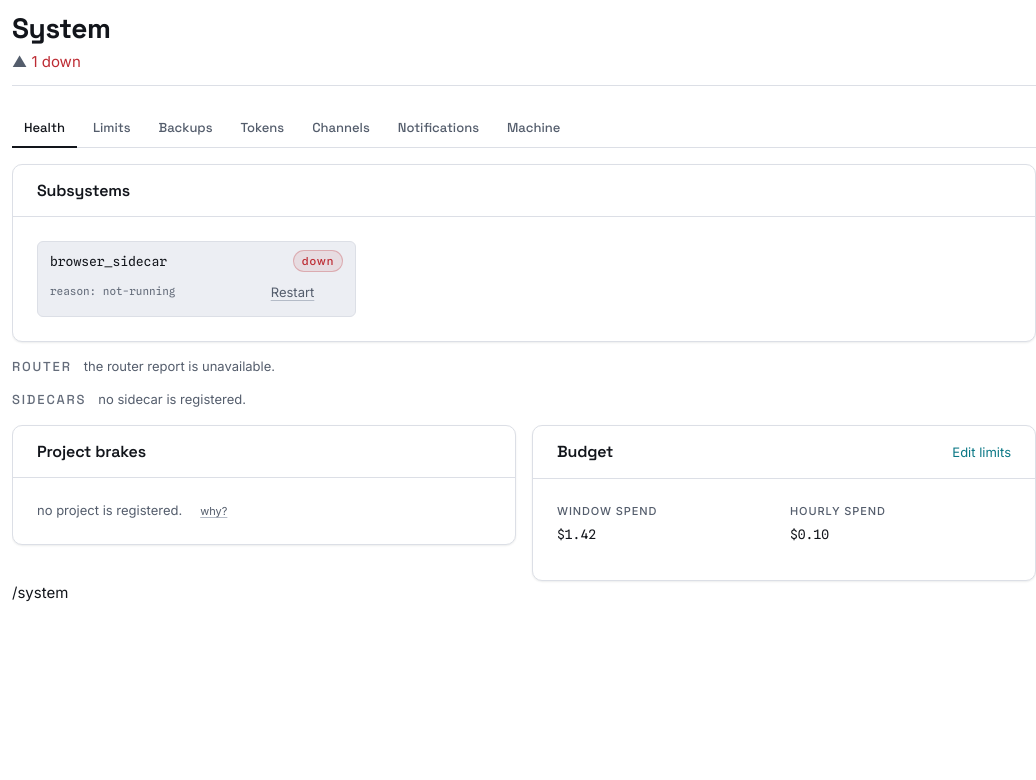
it: System - health readout › says why the núcleo refused a restart, in the row
Click the button "Restart" at [292, 292], box left=242, top=278, right=343, bottom=306
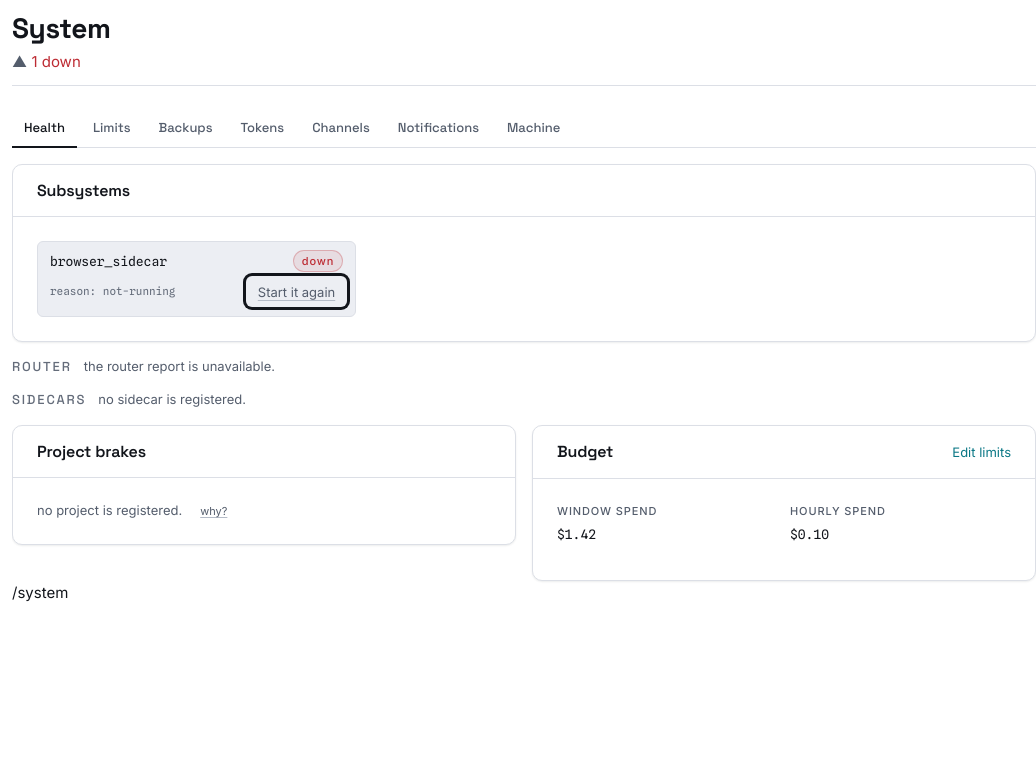
Click the button "Start it again" at [296, 292], box left=246, top=276, right=347, bottom=307
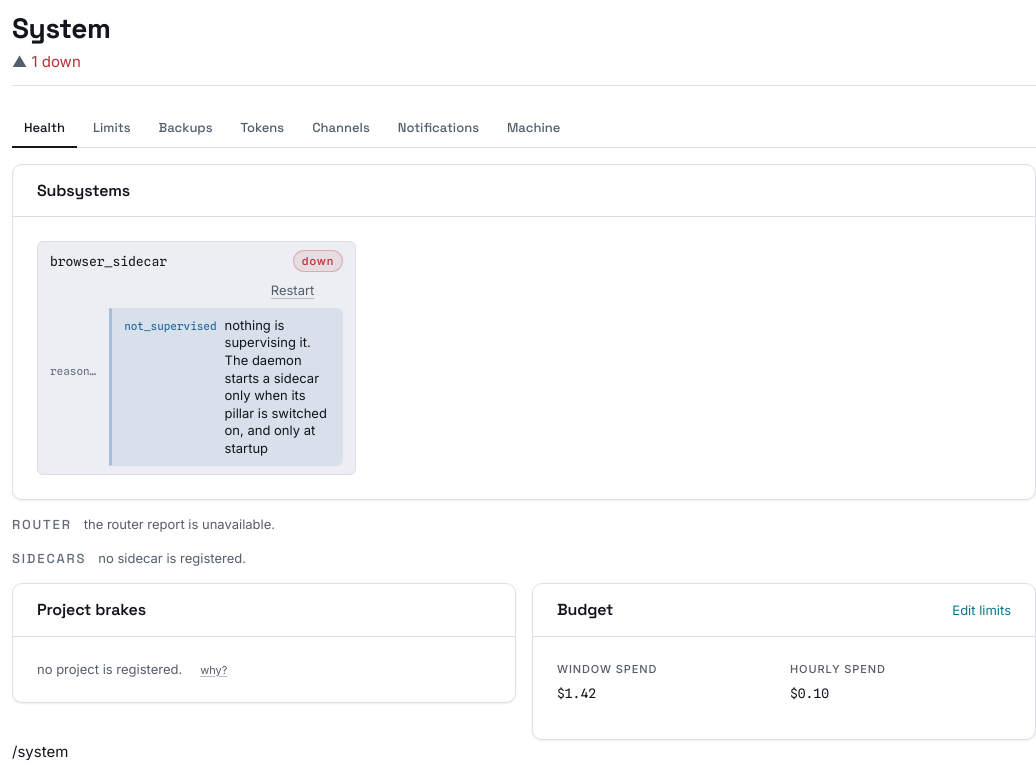
Expected: the text "nothing is supervising it" is shown, left=225, top=317, right=327, bottom=456
